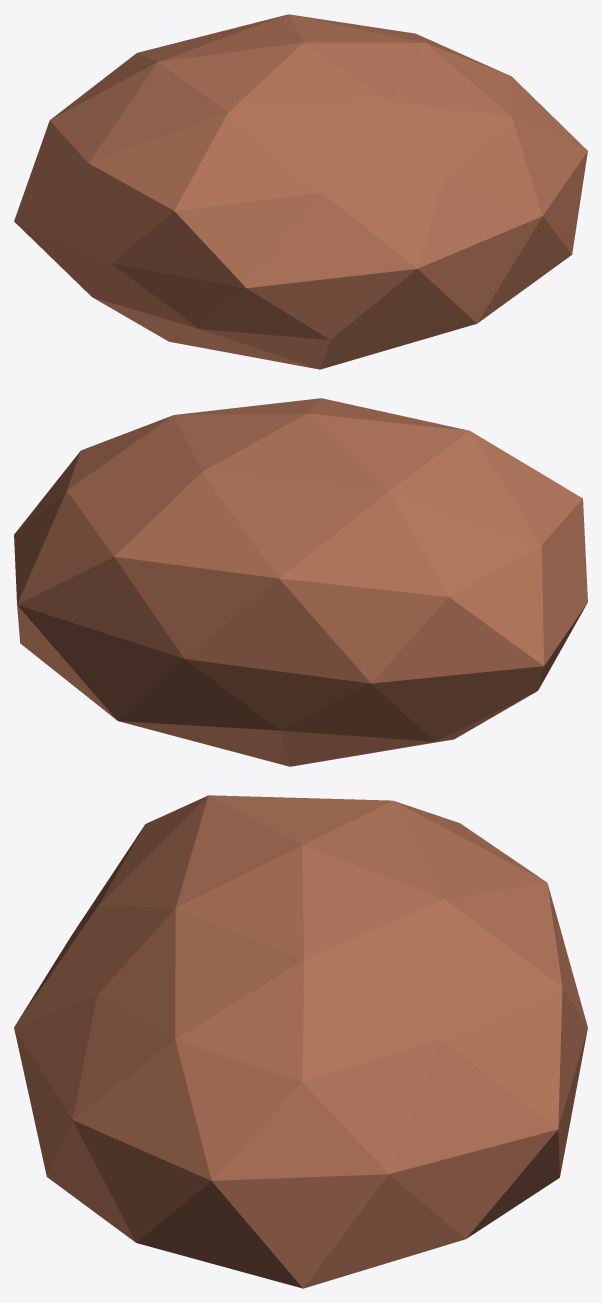
File: Env_Boulder.fbx
3 renders of one model, top to bottom at view 1: azimuth 30°, elevation 25°; view 2: azimuth 150°, elevation 25°; view 3: azimuth 270°, elevation 25°, orthographic. The views are drawn at different scales.
Visible parts, largest first — view 1: Rock.002; view 2: Rock.002; view 3: Rock.002.
Part boxes in pixels (<box>): Rock.002: <box>14,14,587,369</box>; Rock.002: <box>14,398,587,766</box>; Rock.002: <box>14,795,587,1288</box>.
Size of the model in its own units: 30.61 by 16.76 by 23.85.
